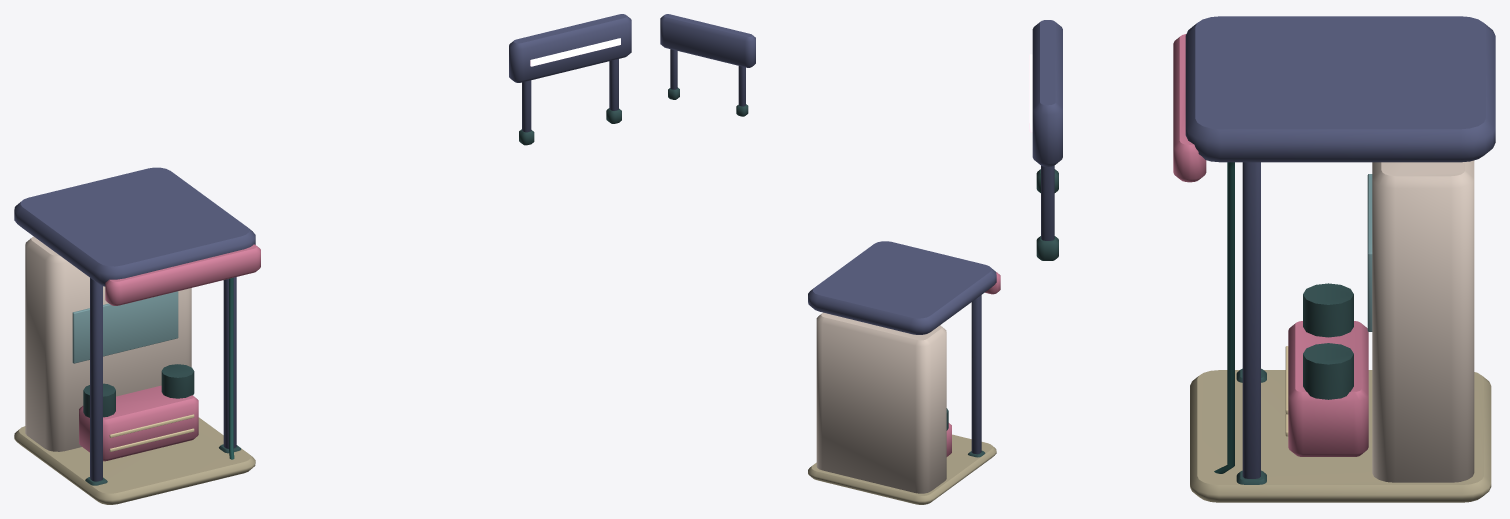
File: japan_tuning_4.glb
The picture shows the model from 3 angles, left to right: view 1: azimuth 30°, elevation 25°; view 2: azimuth 150°, elevation 25°; view 3: azimuth 270°, elevation 25°; orthographic projection. The views are drawn at different scales.
Visible parts, largest first — view 1: JapanTuning4; view 2: JapanTuning4; view 3: JapanTuning4.
Boxes of the visible parts, x1,y1,x2,y2 form: JapanTuning4: [14, 14, 631, 504]; JapanTuning4: [660, 14, 1000, 504]; JapanTuning4: [1029, 16, 1495, 502].
Bounding box in the file's own units: 7.15 × 5.84 × 3.84.
